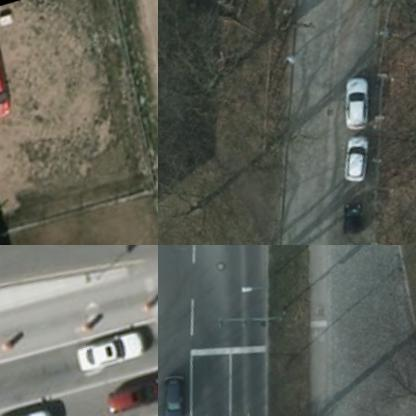car: (73, 331, 151, 378), (100, 367, 157, 415), (334, 132, 378, 190), (334, 76, 375, 134), (158, 371, 194, 415), (338, 196, 372, 234), (0, 51, 16, 123)
